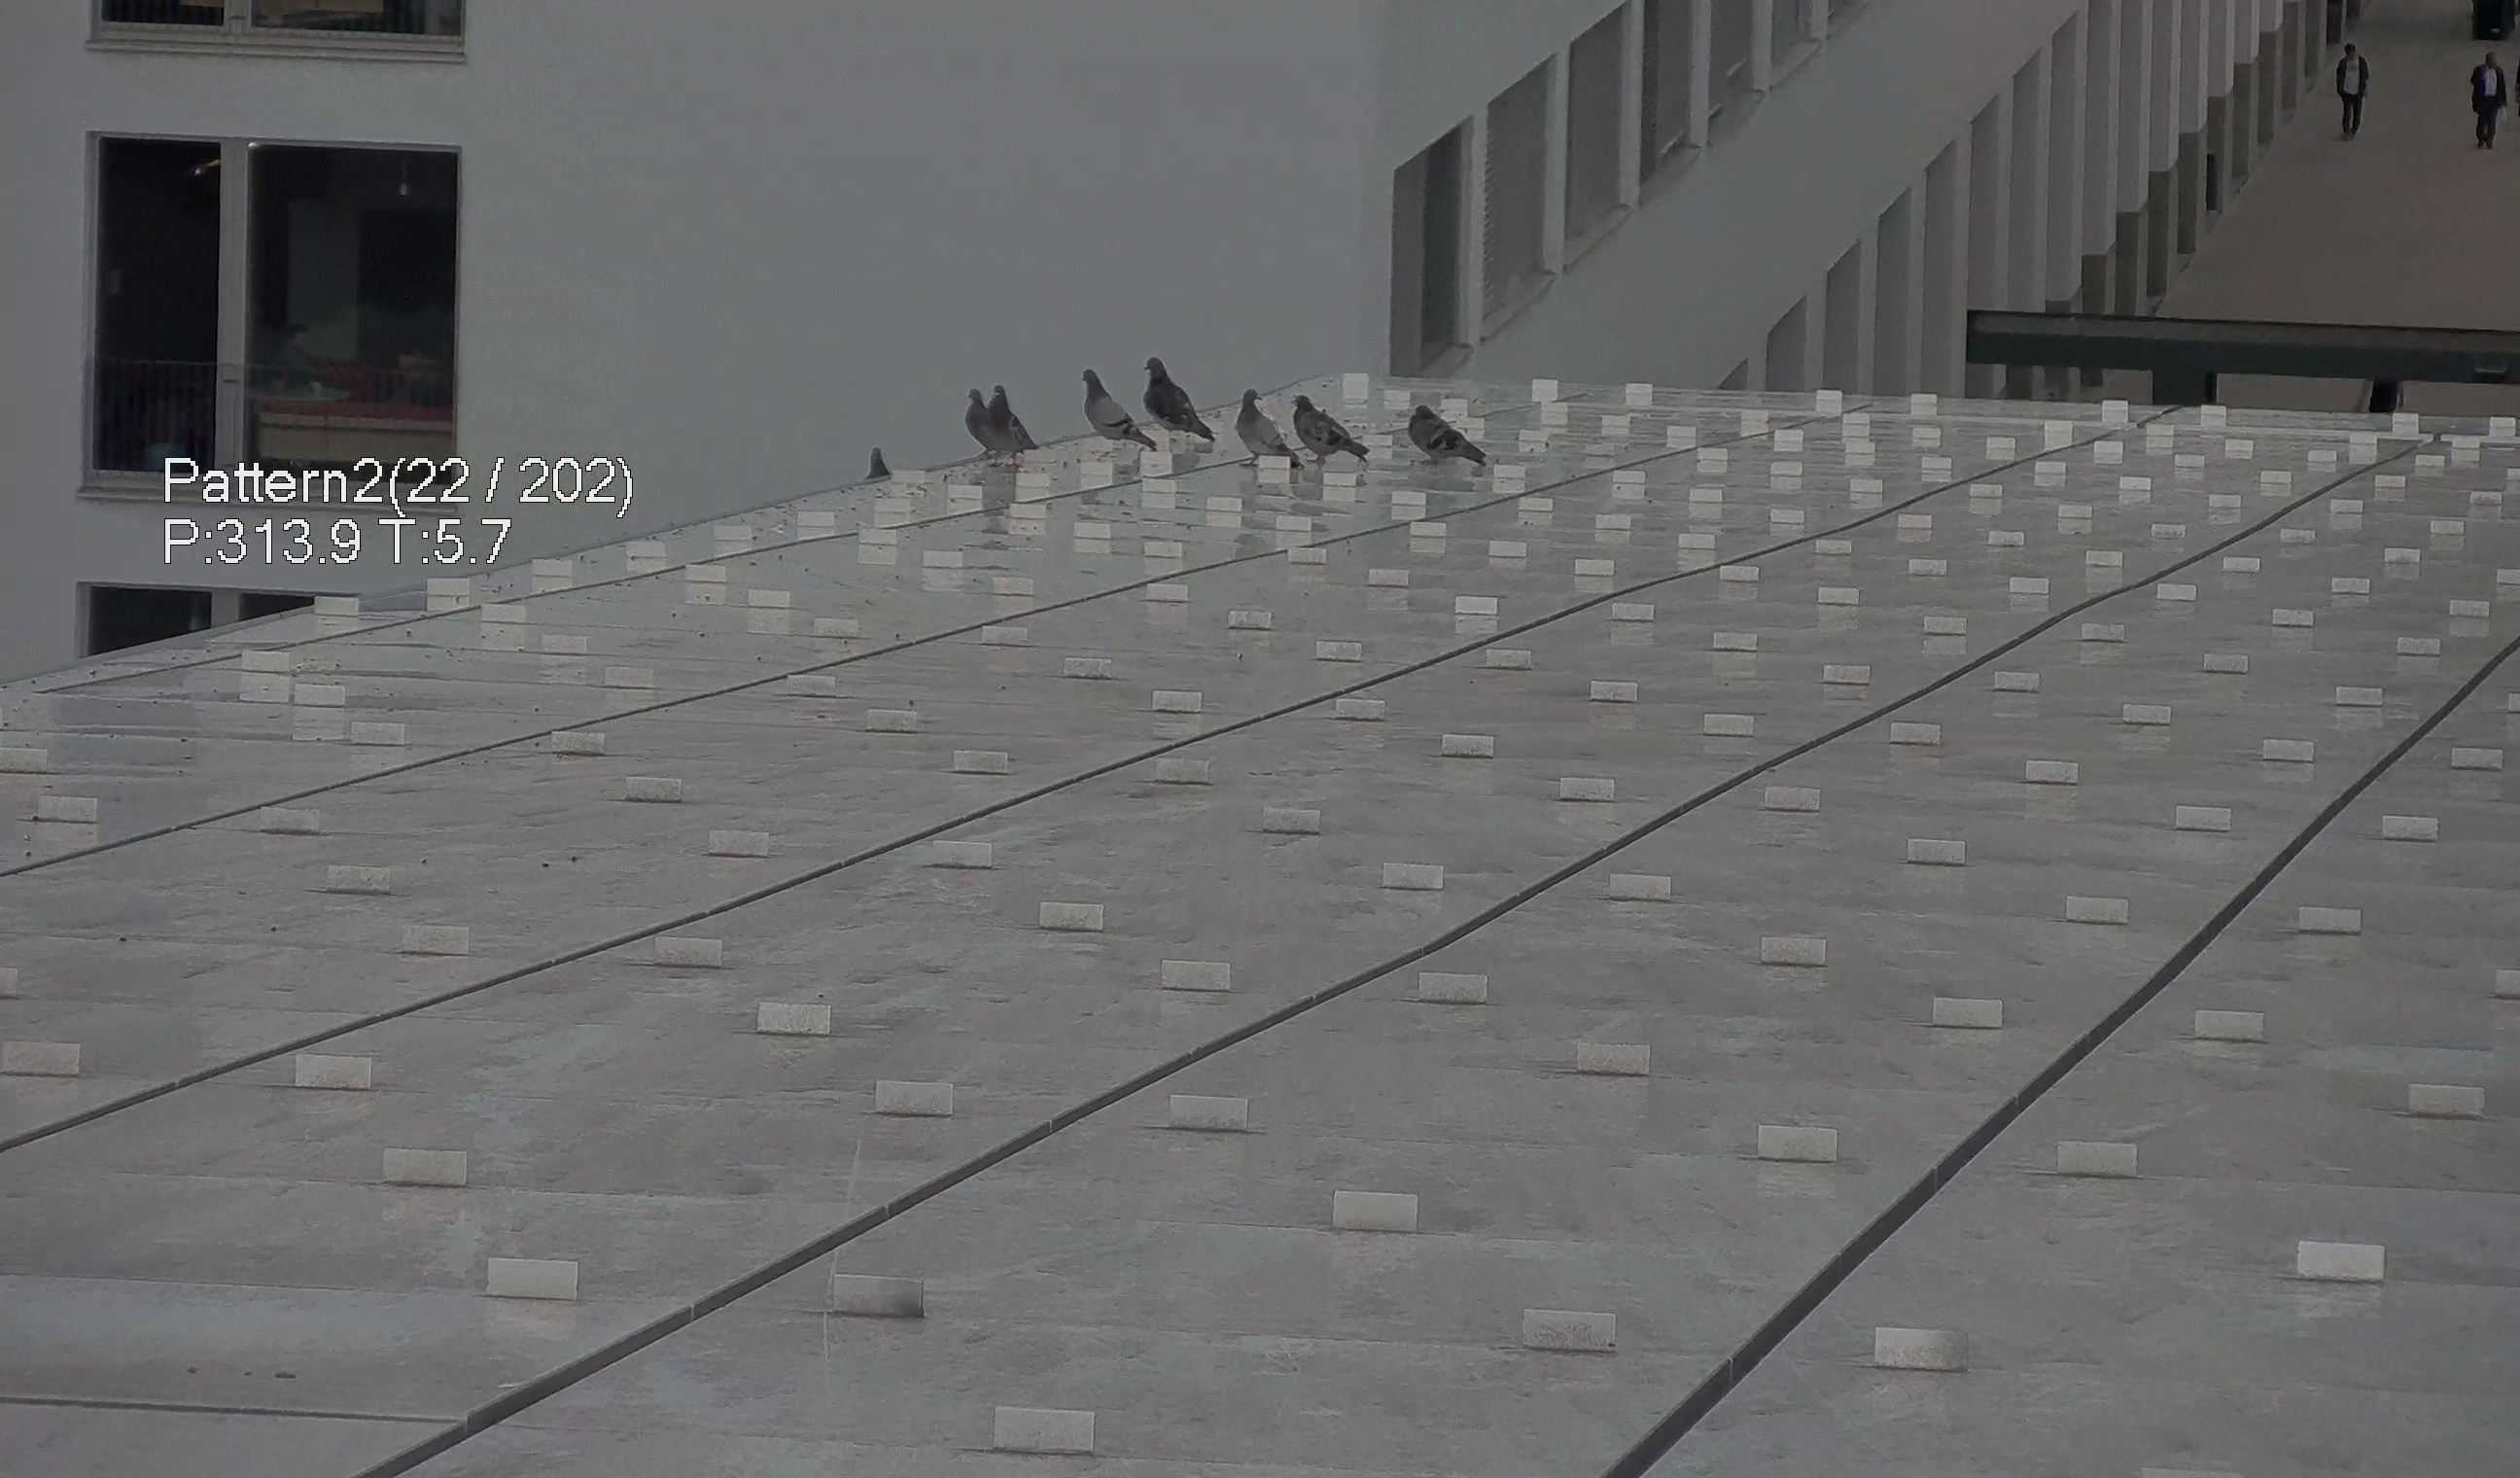Pigeon: (1143, 345, 1219, 463), (1402, 394, 1500, 484), (1280, 391, 1377, 477), (1069, 362, 1154, 461), (1224, 380, 1284, 470), (983, 369, 1032, 466), (964, 380, 999, 459), (844, 445, 895, 482)
